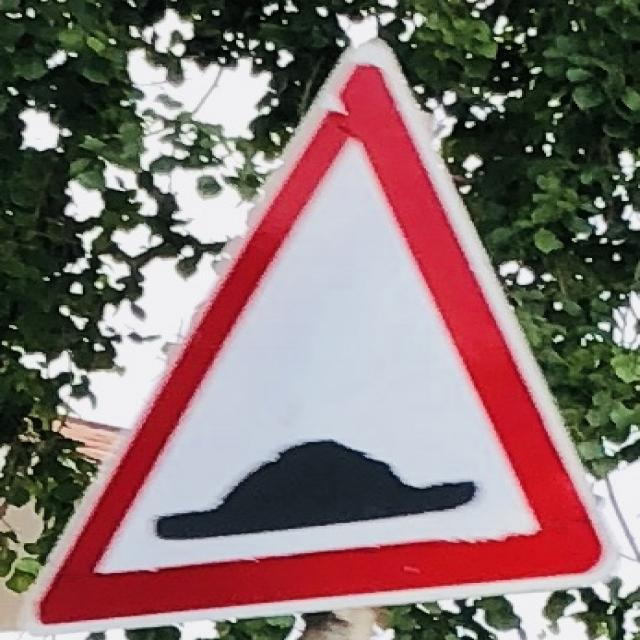hump or rough road: (30, 58, 602, 614)
